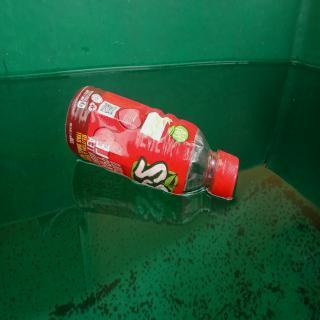bottle: (64, 84, 240, 202)
